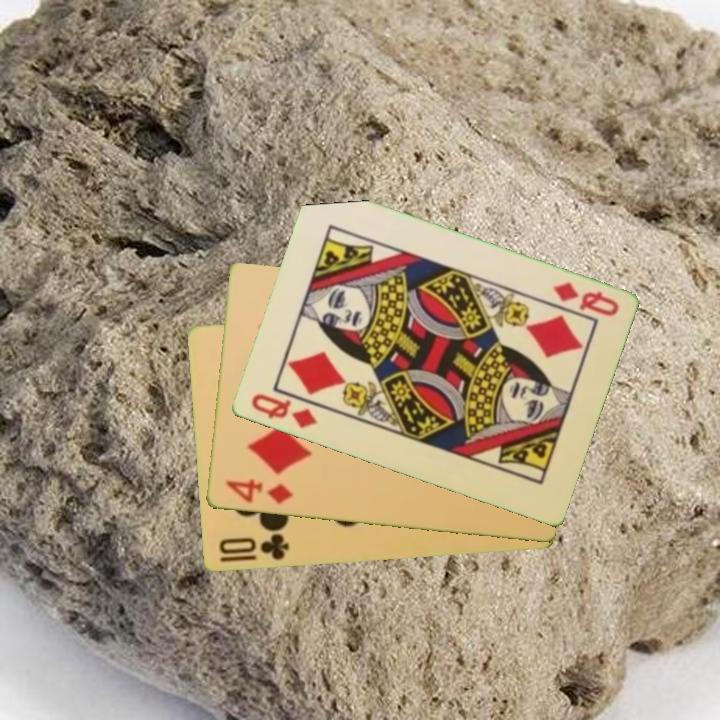10c: (215, 530, 291, 566)
4d: (222, 476, 296, 508)
Qd: (247, 390, 320, 432), (549, 278, 621, 320)
